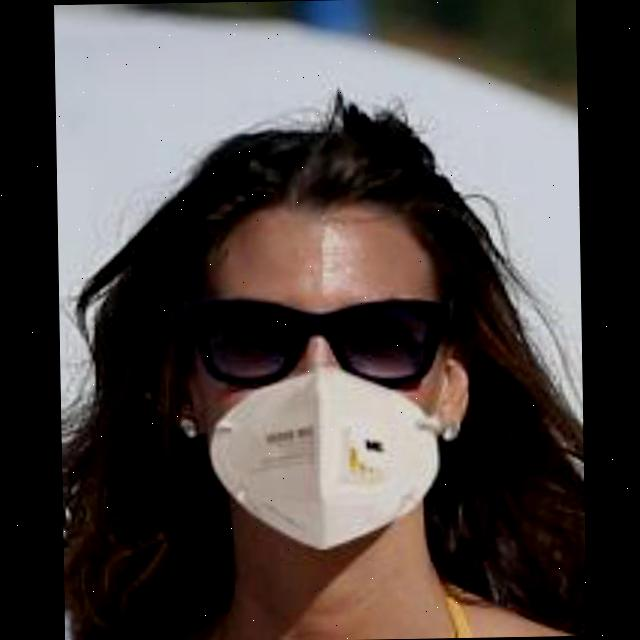suspicion: (157, 138, 504, 534)
